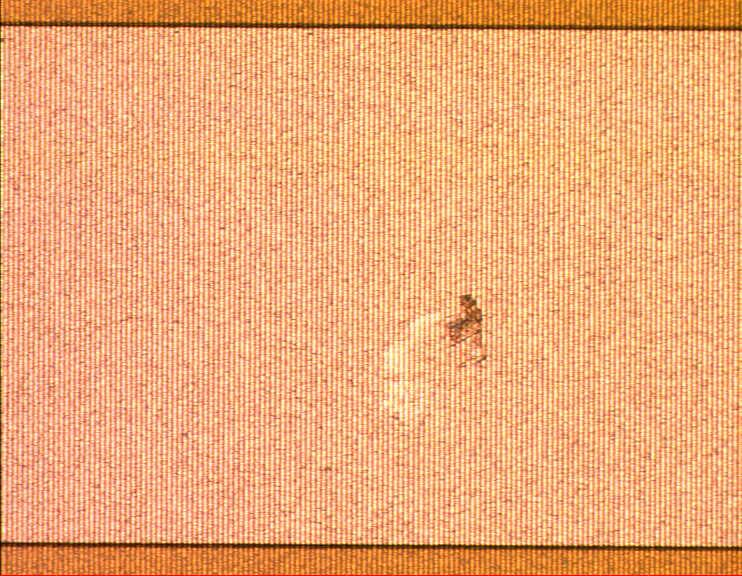SCRATCH: (372, 291, 501, 432)
